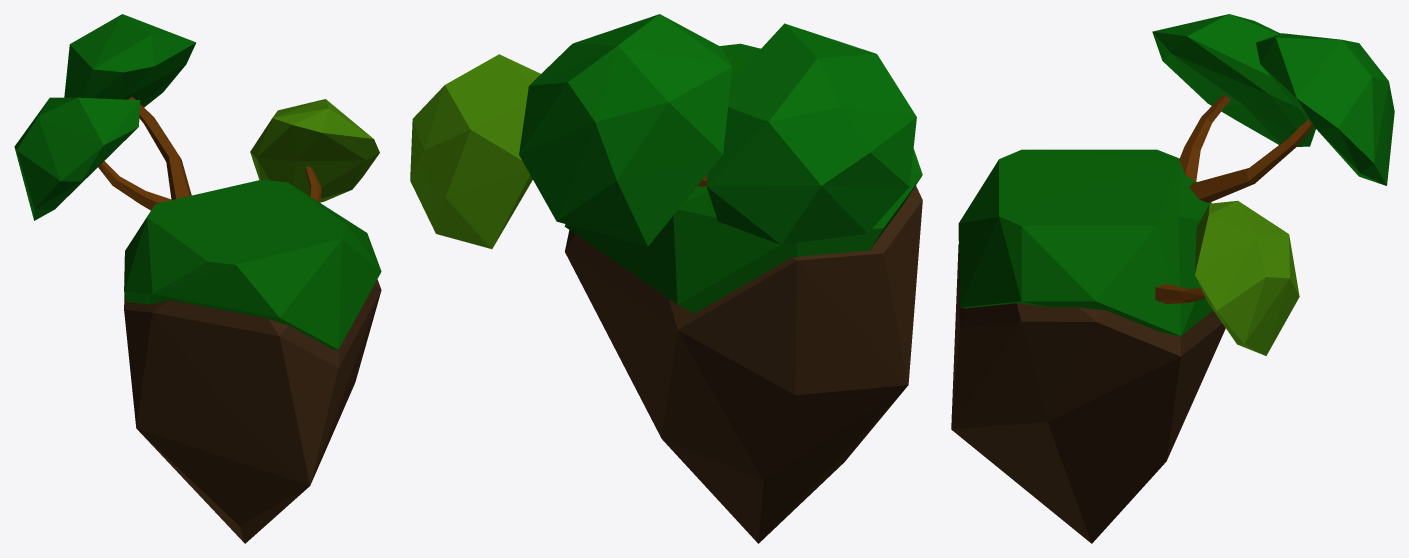
File: island_1.obj
3 views of the same model, side by side, from view 1: azimuth 30°, elevation 25°; view 2: azimuth 150°, elevation 25°; view 3: azimuth 270°, elevation 25° (orthographic). The views are drawn at different scales.
Visible parts, largest first — view 1: s.0139, s.0138, s.0141, s.0136, s.0135, s.0140; view 2: s.0141, s.0139, s.0135, s.0138, s.0136; view 3: s.0139, s.0138, s.0141, s.0135, s.0140, s.0136, s.0137.
Boxes of the visible parts, bbox=[...] form: s.0139: bbox=[124, 279, 381, 543]; s.0138: bbox=[124, 179, 381, 349]; s.0141: bbox=[14, 14, 196, 220]; s.0136: bbox=[250, 118, 379, 202]; s.0135: bbox=[250, 99, 373, 164]; s.0140: bbox=[98, 97, 191, 210]; s.0141: bbox=[519, 14, 916, 246]; s.0139: bbox=[565, 186, 922, 543]; s.0135: bbox=[413, 54, 540, 248]; s.0138: bbox=[565, 43, 922, 313]; s.0136: bbox=[410, 119, 532, 248]; s.0139: bbox=[951, 244, 1225, 543]; s.0138: bbox=[958, 149, 1212, 335]; s.0141: bbox=[1152, 14, 1394, 185]; s.0135: bbox=[1195, 200, 1299, 327]; s.0140: bbox=[1179, 95, 1313, 202]; s.0136: bbox=[1195, 276, 1290, 355]; s.0137: bbox=[1155, 283, 1205, 304].
Bounding box in the file's own units: 3.99 × 4.89 × 3.93.
